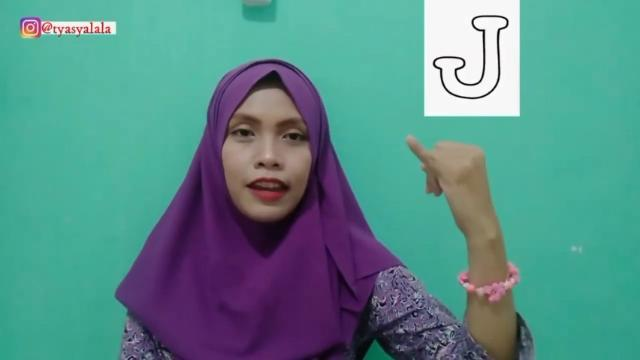J: (403, 132, 503, 240)
